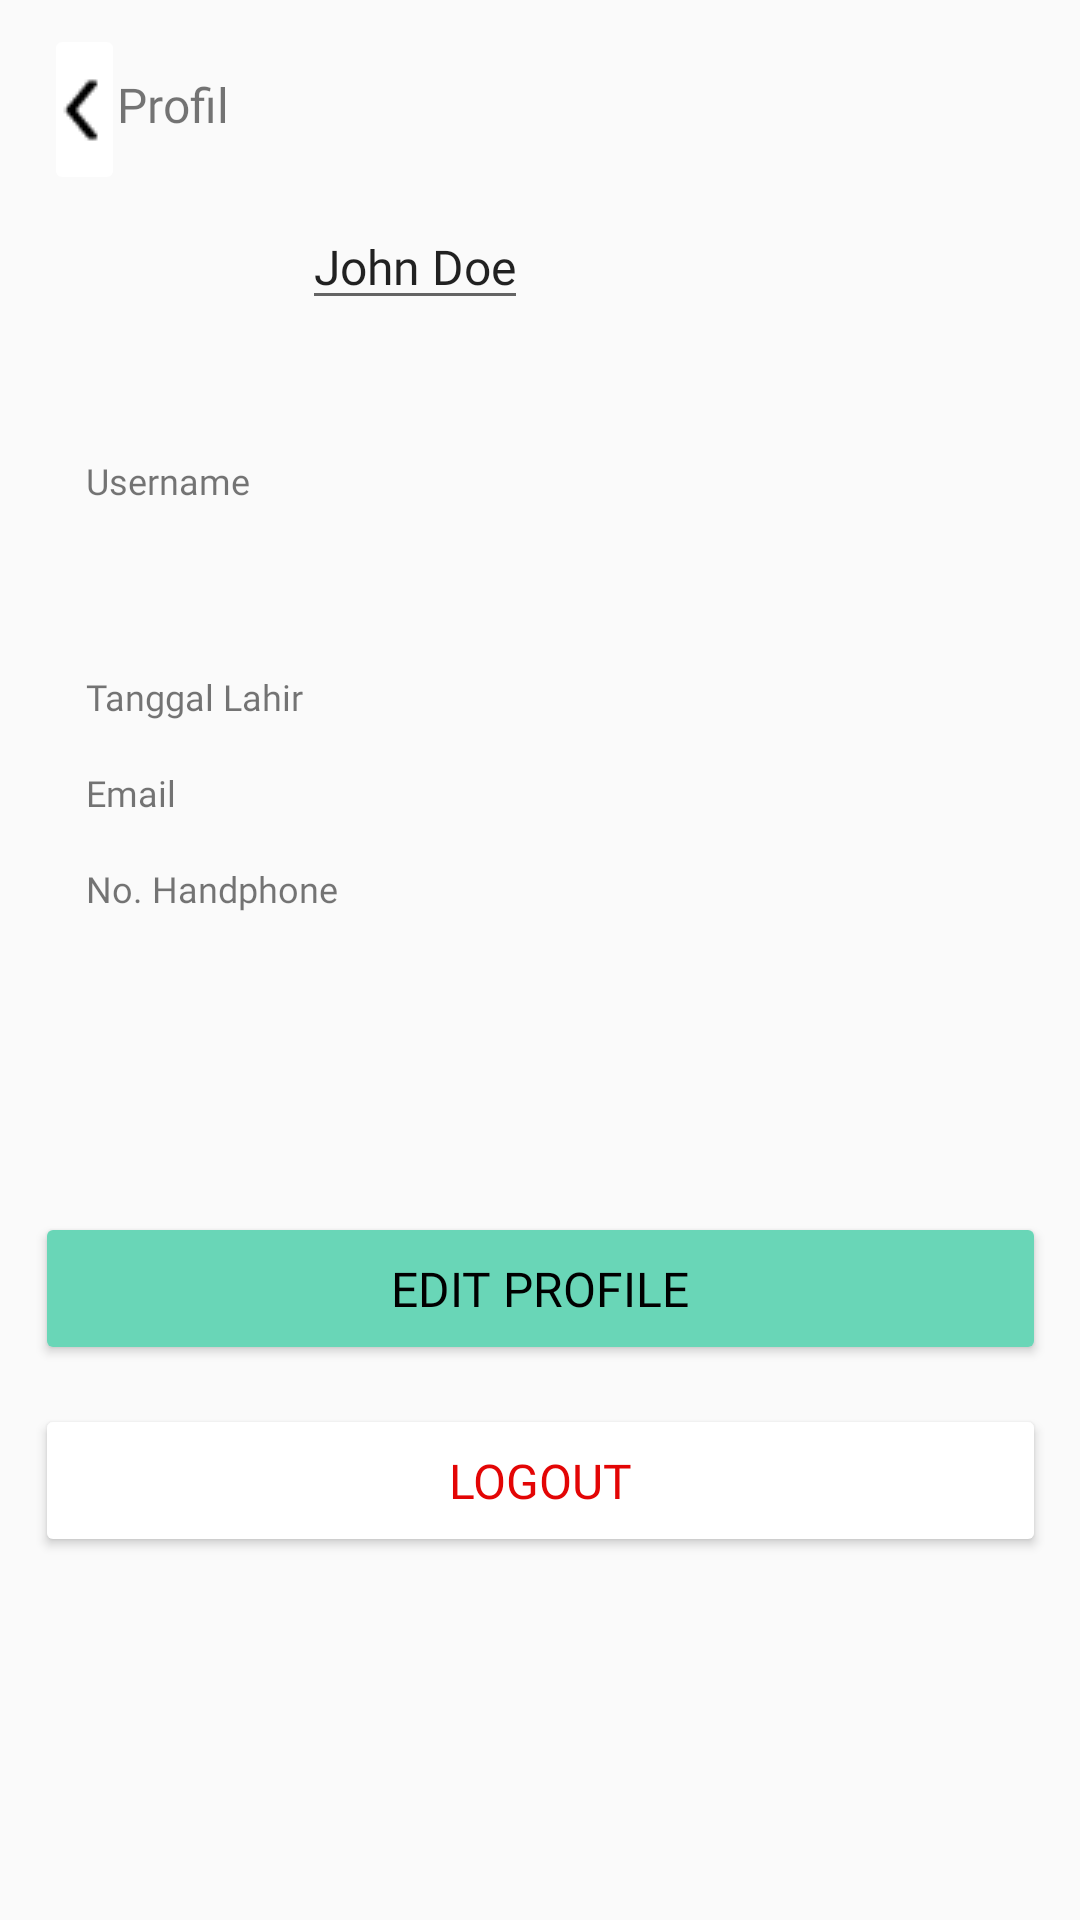

Icon bounding boxes for this 1080 x 1920 phone screenshot, format (x1, y1, x2, y2):
panah: (64, 79, 98, 141)
